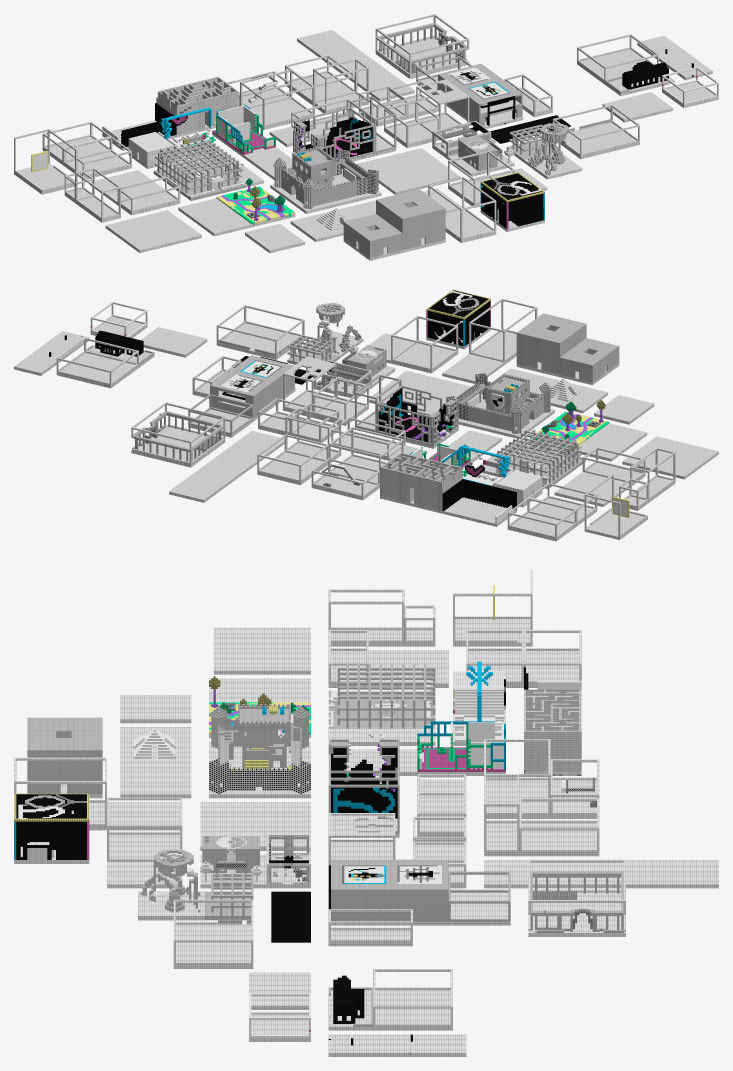
Rendered from FantasyFields-v2.glb.
3 renders of one model, top to bottom at view 1: azimuth 30°, elevation 25°; view 2: azimuth 150°, elevation 25°; view 3: azimuth 270°, elevation 25°, orthographic. The views are drawn at different scales.
Visible parts, largest first — view 1: solid-voxels_48.003; view 2: solid-voxels_48.003; view 3: solid-voxels_48.003.
Part boxes in pixels (<box>): solid-voxels_48.003: <box>14,14,718,260</box>; solid-voxels_48.003: <box>14,289,718,541</box>; solid-voxels_48.003: <box>14,570,718,1056</box>.
Size of the model in its own units: 232 by 13 by 159.
1 material, 1 textured.
